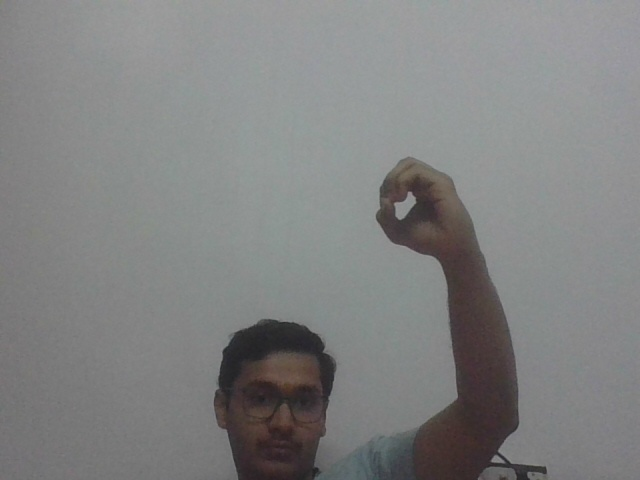O: (375, 151, 477, 260)
